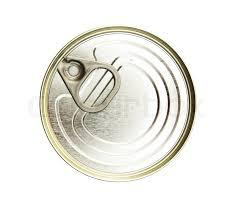Aluminum can: (37, 19, 209, 194)
